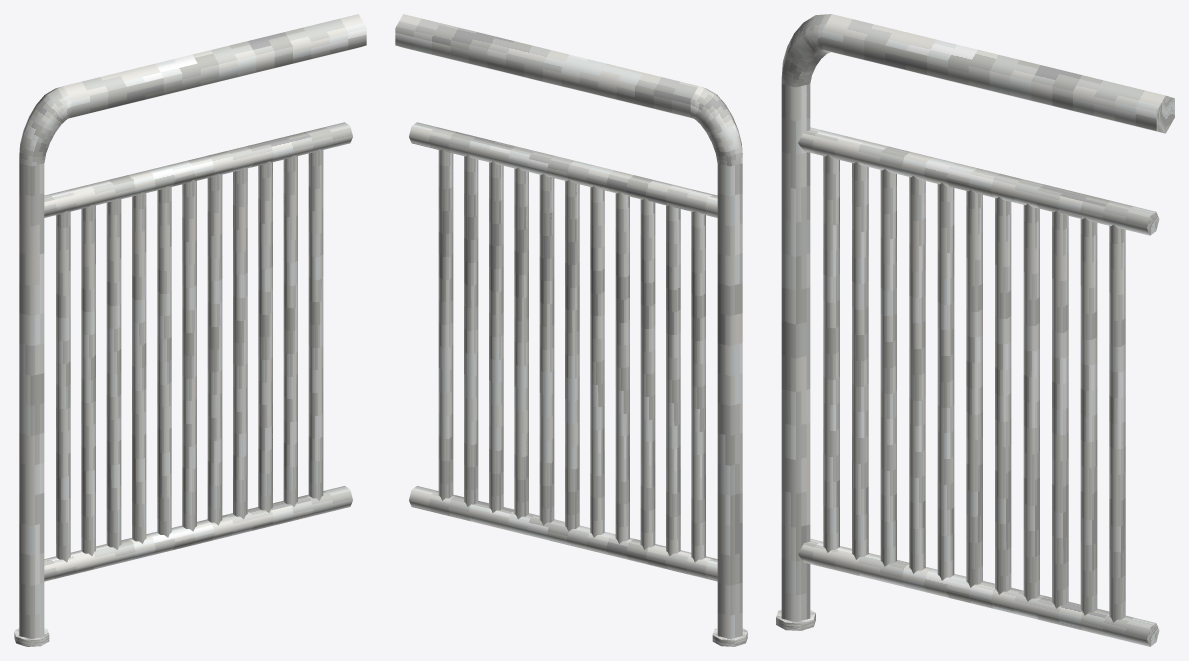
The model's file is endl.obj.
The picture shows the model from 3 angles, left to right: view 1: azimuth 30°, elevation 25°; view 2: azimuth 150°, elevation 25°; view 3: azimuth 330°, elevation 25°; orthographic projection. The views are drawn at different scales.
Visible parts, largest first — view 1: 贝塞尔曲线.008, 贝塞尔曲线.009, 贝塞尔曲线.033, 贝塞尔曲线.035, 贝塞尔曲线.023, 贝塞尔曲线.026, 贝塞尔曲线.030, 贝塞尔曲线.022, 贝塞尔曲线.028, 贝塞尔曲线.029, 贝塞尔曲线.024, 贝塞尔曲线.025 (+4 smaller); view 2: 贝塞尔曲线.008, 贝塞尔曲线.009, 贝塞尔曲线.033, 贝塞尔曲线.035, 贝塞尔曲线.023, 贝塞尔曲线.026, 贝塞尔曲线.030, 贝塞尔曲线.022, 贝塞尔曲线.028, 贝塞尔曲线.029, 贝塞尔曲线.024, 贝塞尔曲线.025 (+4 smaller); view 3: 贝塞尔曲线.008, 贝塞尔曲线.009, 贝塞尔曲线.033, 贝塞尔曲线.035, 贝塞尔曲线.021, 贝塞尔曲线.027, 贝塞尔曲线.029, 贝塞尔曲线.026, 贝塞尔曲线.023, 贝塞尔曲线.028, 贝塞尔曲线.031, 贝塞尔曲线.025 (+4 smaller).
Boxes of the visible parts, x1,y1,x2,y2 form: 贝塞尔曲线.008: [19, 163, 44, 638]; 贝塞尔曲线.009: [63, 14, 366, 118]; 贝塞尔曲线.033: [44, 122, 352, 217]; 贝塞尔曲线.035: [44, 486, 352, 581]; 贝塞尔曲线.023: [106, 198, 121, 549]; 贝塞尔曲线.026: [308, 149, 323, 500]; 贝塞尔曲线.030: [207, 173, 222, 525]; 贝塞尔曲线.022: [132, 192, 146, 543]; 贝塞尔曲线.028: [258, 161, 272, 512]; 贝塞尔曲线.029: [233, 167, 247, 519]; 贝塞尔曲线.024: [81, 204, 95, 555]; 贝塞尔曲线.025: [56, 211, 70, 562]; 贝塞尔曲线.008: [717, 163, 742, 638]; 贝塞尔曲线.009: [395, 14, 698, 118]; 贝塞尔曲线.033: [409, 122, 717, 217]; 贝塞尔曲线.035: [409, 486, 717, 581]; 贝塞尔曲线.023: [640, 198, 655, 549]; 贝塞尔曲线.026: [438, 149, 453, 500]; 贝塞尔曲线.030: [539, 173, 554, 525]; 贝塞尔曲线.022: [615, 192, 629, 543]; 贝塞尔曲线.028: [489, 161, 503, 512]; 贝塞尔曲线.029: [514, 167, 528, 519]; 贝塞尔曲线.024: [666, 204, 680, 555]; 贝塞尔曲线.025: [691, 211, 705, 562]; 贝塞尔曲线.008: [781, 84, 810, 621]; 贝塞尔曲线.009: [822, 14, 1174, 133]; 贝塞尔曲线.033: [798, 127, 1159, 235]; 贝塞尔曲线.035: [798, 538, 1159, 646]; 贝塞尔曲线.021: [937, 183, 954, 580]; 贝塞尔曲线.027: [1080, 218, 1097, 615]; 贝塞尔曲线.029: [1023, 203, 1039, 601]; 贝塞尔曲线.026: [1109, 224, 1125, 622]; 贝塞尔曲线.023: [880, 169, 896, 566]; 贝塞尔曲线.028: [1052, 210, 1068, 608]; 贝塞尔曲线.031: [966, 190, 982, 587]; 贝塞尔曲线.025: [823, 155, 839, 552].
Size of the model in its own units: 1.09 by 1.65 by 0.1.
Materials: 2 (2 with a texture image).
